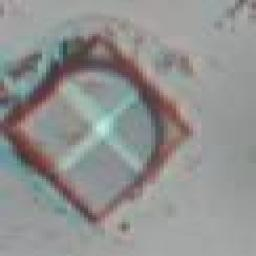crystals: (2, 39, 202, 226)
